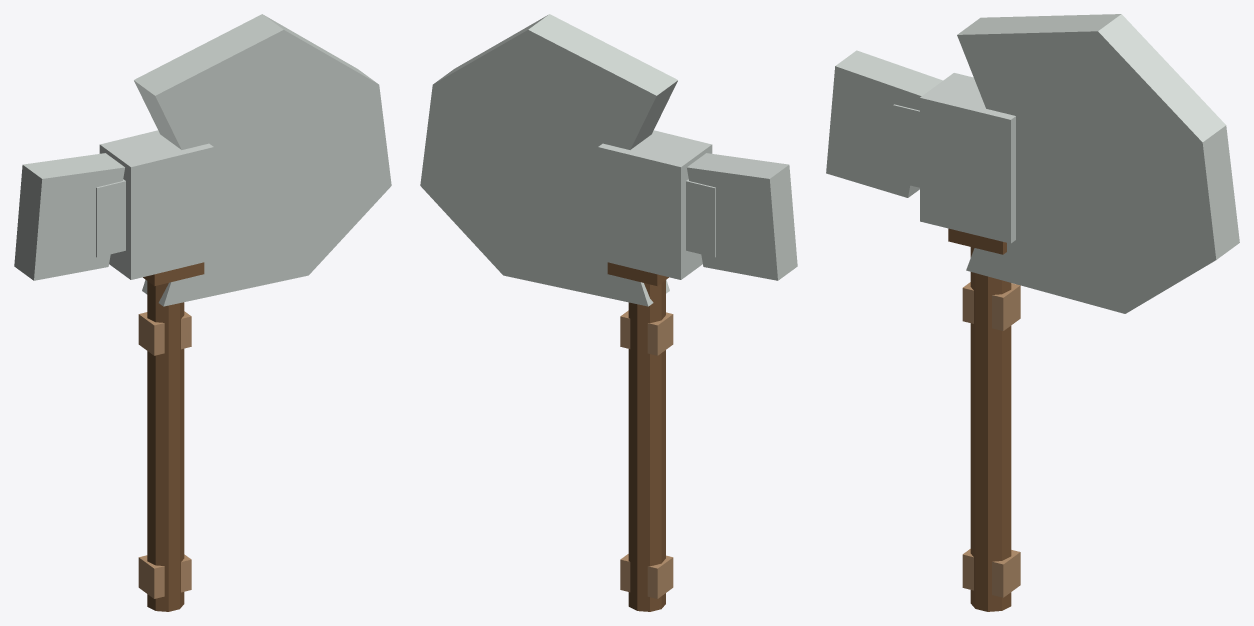
The model's file is ironAxe.glb.
The picture shows the model from 3 angles, left to right: view 1: azimuth 30°, elevation 25°; view 2: azimuth 150°, elevation 25°; view 3: azimuth 330°, elevation 25°; orthographic projection. The views are drawn at different scales.
Visible parts, largest first — view 1: AxeBlade, AxeEye, Handle, AxePoll, AxeHeadBridge, GripWrapHigh, GripWrapLow, ToolHeadSocket; view 2: AxeBlade, AxeEye, Handle, AxePoll, AxeHeadBridge, GripWrapLow, GripWrapHigh, ToolHeadSocket; view 3: AxeBlade, AxeEye, Handle, AxePoll, AxeHeadBridge, GripWrapLow, GripWrapHigh, ToolHeadSocket.
Part boxes in pixels (<box>): AxeBlade: <box>134,14,391,306</box>; AxeEye: <box>99,130,213,279</box>; Handle: <box>147,281,184,611</box>; AxePoll: <box>14,153,124,280</box>; AxeHeadBridge: <box>96,140,296,257</box>; GripWrapHigh: <box>138,311,191,355</box>; GripWrapLow: <box>138,554,191,598</box>; ToolHeadSocket: <box>143,262,204,285</box>; AxeBlade: <box>420,14,677,306</box>; AxeEye: <box>598,130,712,279</box>; Handle: <box>628,280,665,611</box>; AxePoll: <box>687,153,797,280</box>; AxeHeadBridge: <box>515,140,715,257</box>; GripWrapLow: <box>620,554,673,598</box>; GripWrapHigh: <box>620,310,673,355</box>; ToolHeadSocket: <box>607,262,668,285</box>; AxeBlade: <box>957,14,1239,313</box>; AxeEye: <box>920,73,1015,243</box>; Handle: <box>970,247,1011,611</box>; AxePoll: <box>826,50,942,197</box>; AxeHeadBridge: <box>893,104,1111,234</box>; GripWrapLow: <box>962,549,1020,597</box>; GripWrapHigh: <box>962,282,1020,330</box>; ToolHeadSocket: <box>948,228,1006,254</box>.
Bounding box in the file's own units: 0.86 × 1.28 × 0.13.
